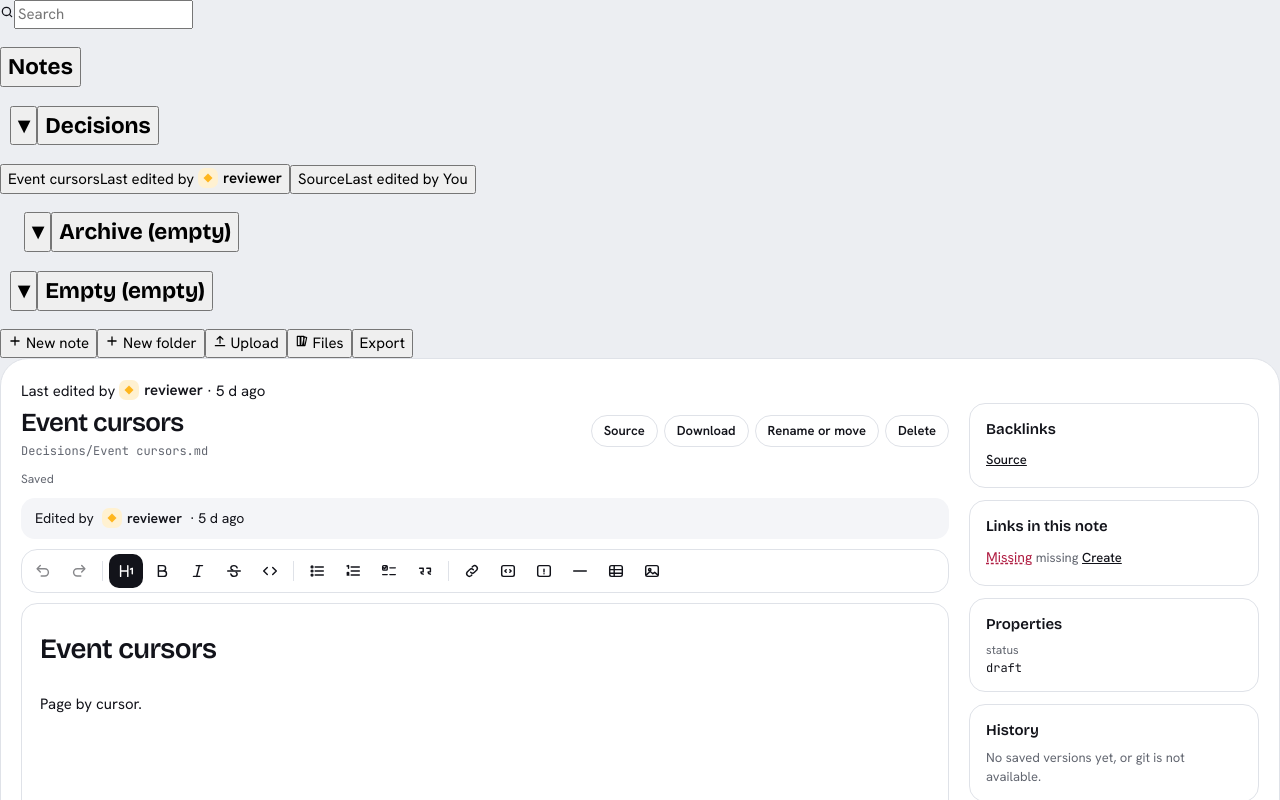
Scenario: folders collapse, empty and nested folders show, and New note starts in the picked folder
Expected: the button "Empty (empty)" is shown, [37, 271, 213, 311]
Expected: the button "Archive (empty)" is shown, [51, 212, 239, 252]
Collapsing hides the folder's notes and its nested folders, and does not pick it.
Click the button named "Collapse Decisions" at coordinates (24, 126), box [10, 106, 37, 145]
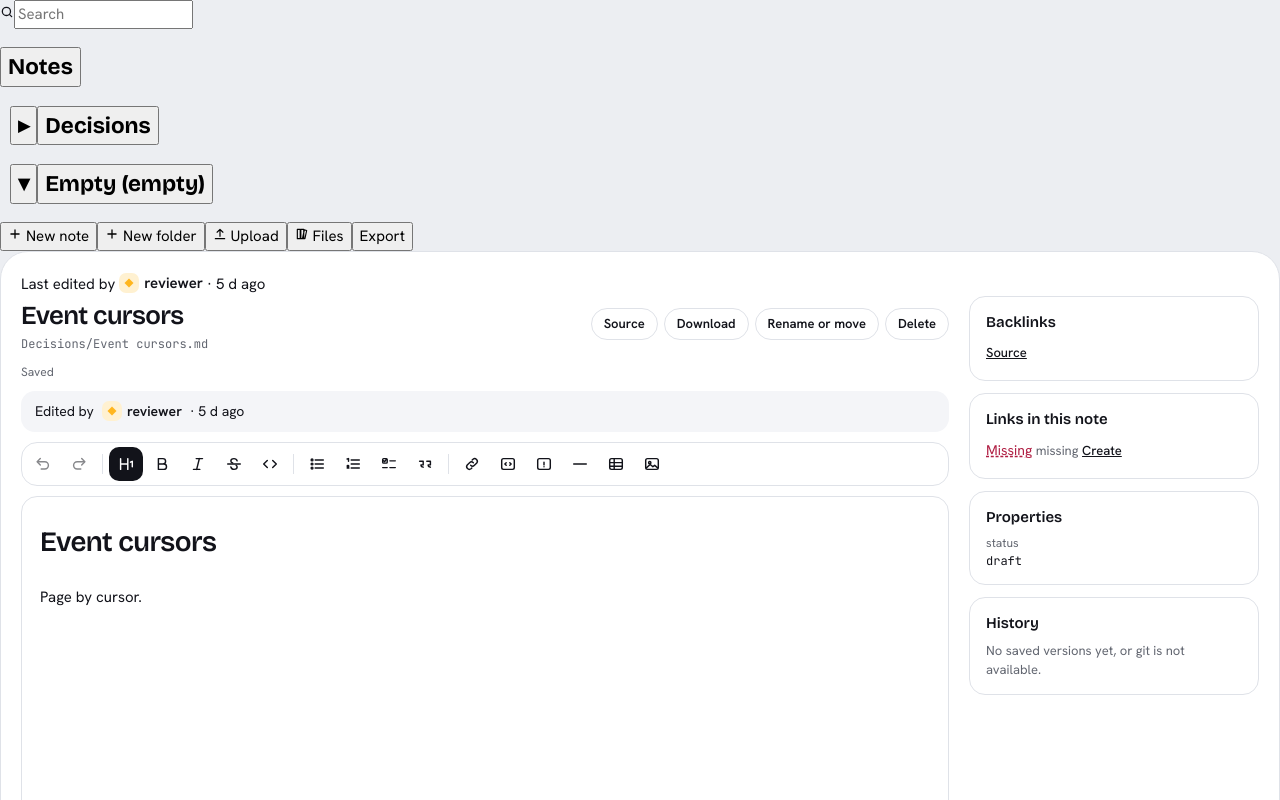
Now the button "Archive" is gone
Click the button "Empty (empty)" at coordinates (125, 184), box [37, 164, 213, 204]
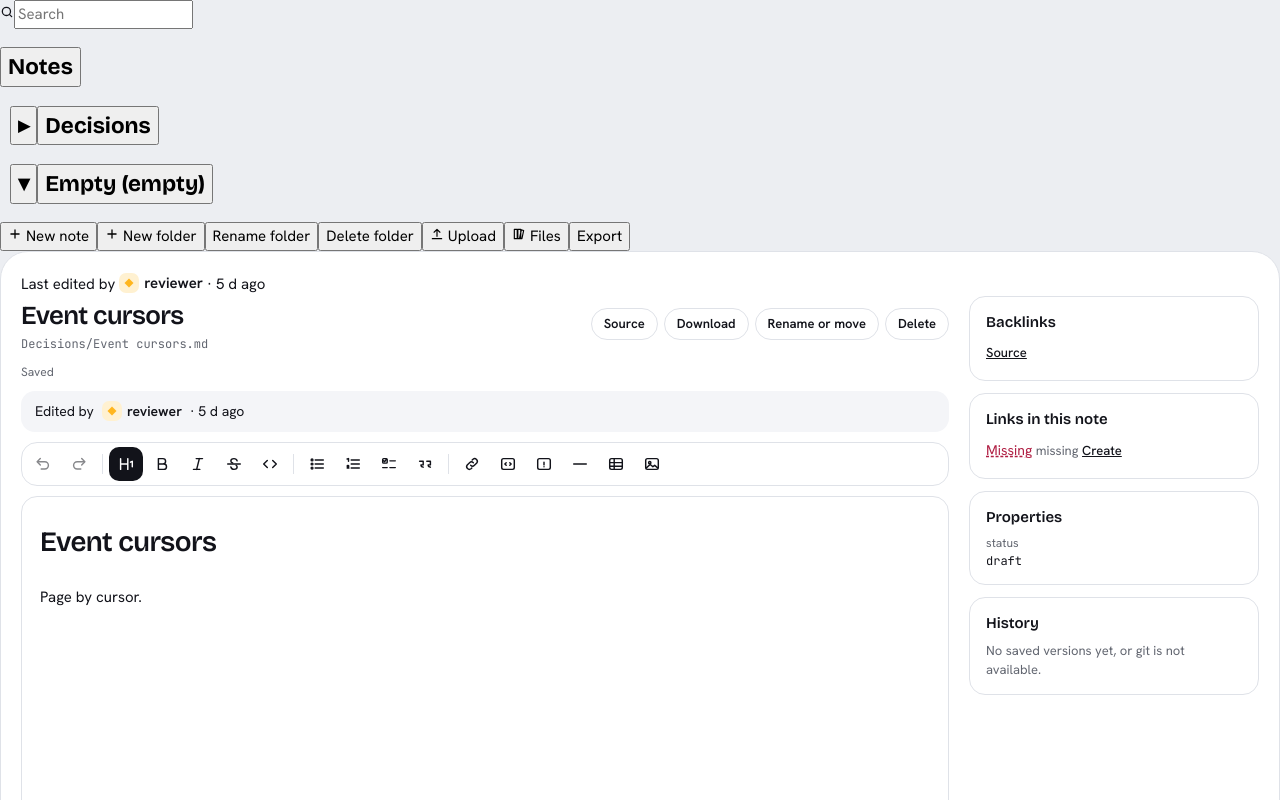
Click the button "New note" at coordinates (49, 237), box [0, 222, 97, 251]
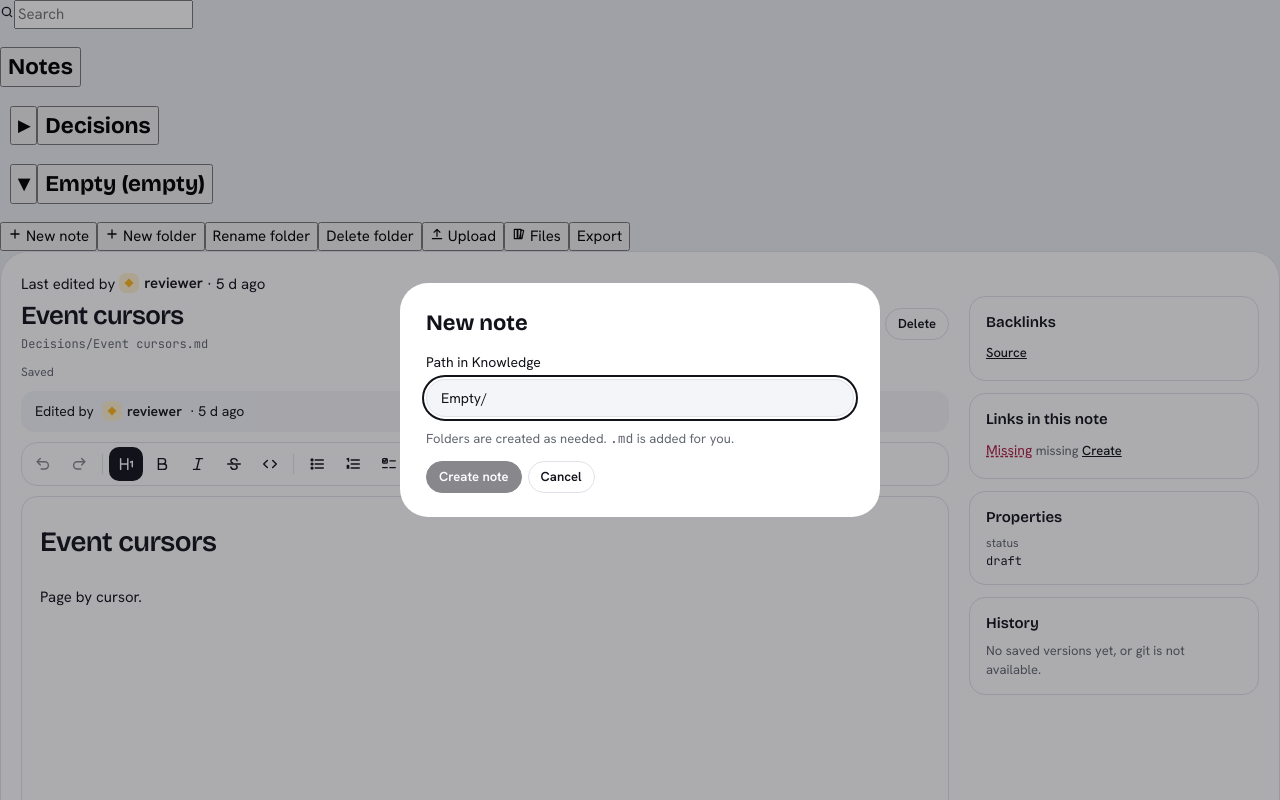
Now the field labelled "Path in Knowledge" holds "Empty/", box [426, 379, 854, 417]
